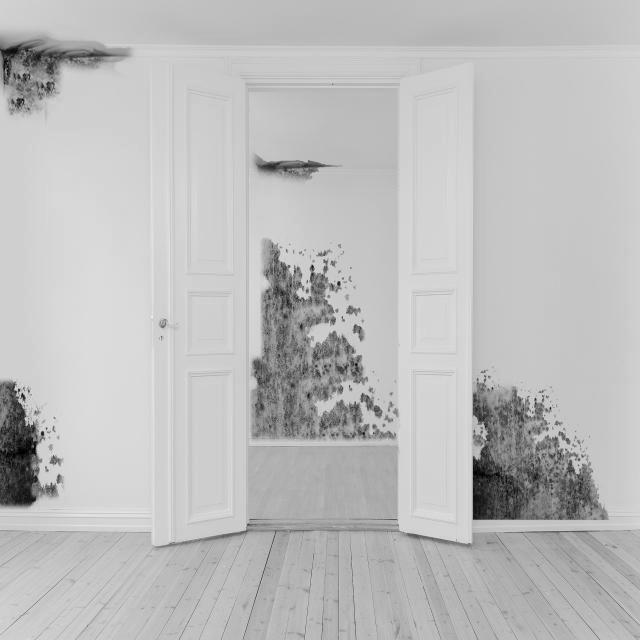stain marks: (250, 238, 396, 440), (473, 364, 609, 520), (0, 34, 135, 120), (0, 379, 64, 506), (252, 153, 344, 180)
